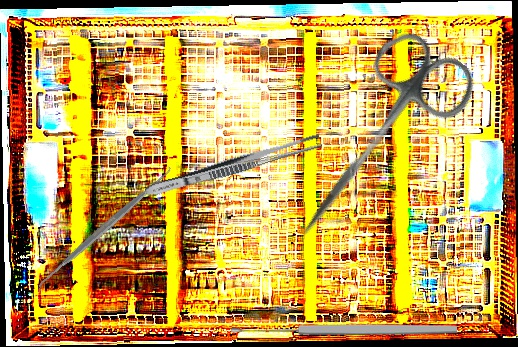Dressing Forceps: (143, 130, 323, 202)
Iris Scissors: (265, 19, 486, 268)
Spatula Surgical: (29, 162, 179, 296)
Surgical Spoon: (231, 323, 457, 336)
